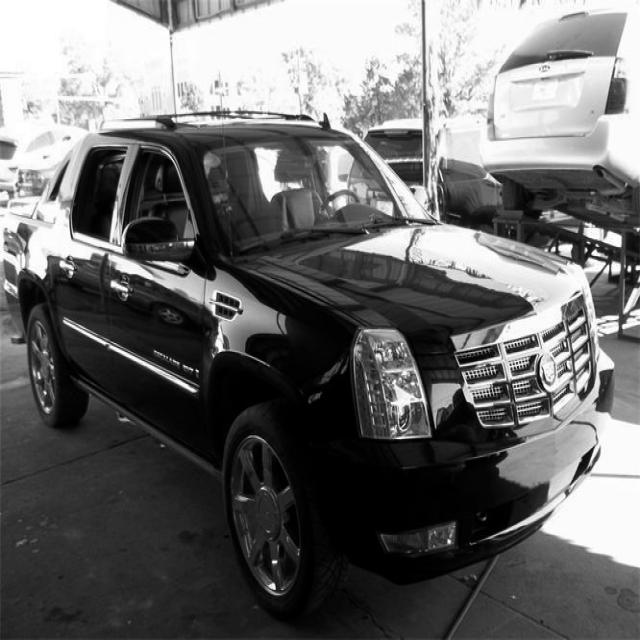car: (2, 108, 614, 622), (478, 5, 640, 258)
